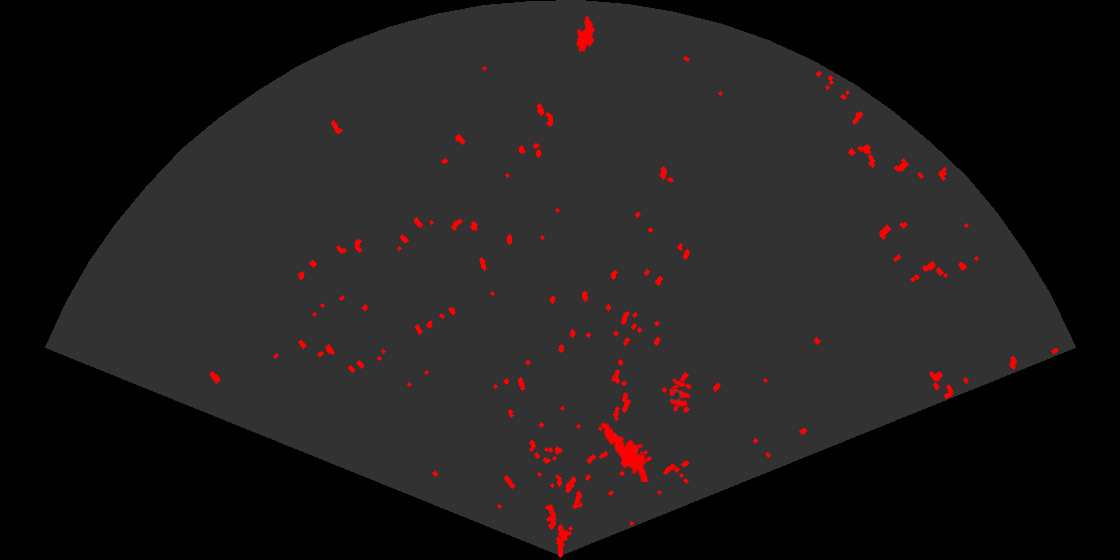AUV: (574, 14, 596, 54)
ball: (668, 379, 693, 409)
frogman: (599, 420, 651, 482)
